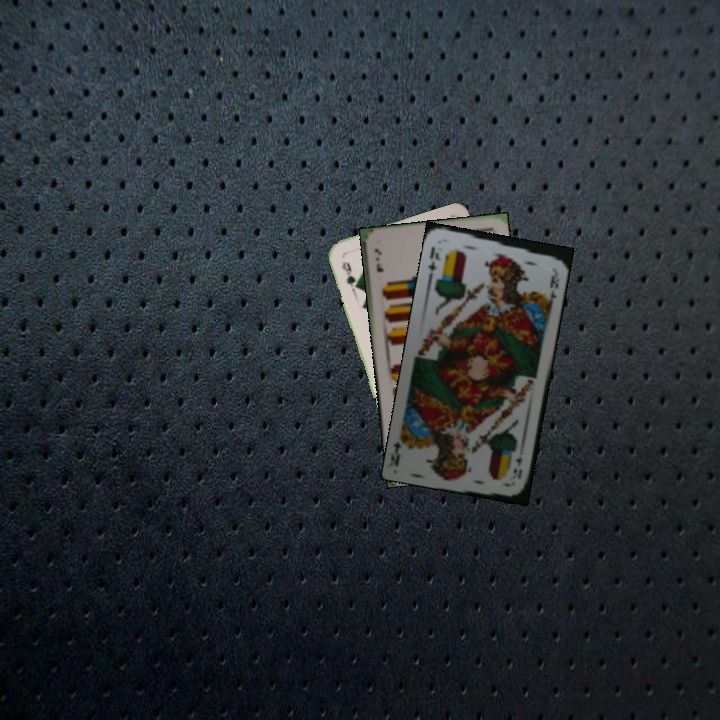E7: (370, 244, 386, 275)
EK: (424, 242, 443, 280), (509, 453, 525, 481)
G9: (338, 258, 361, 293)
